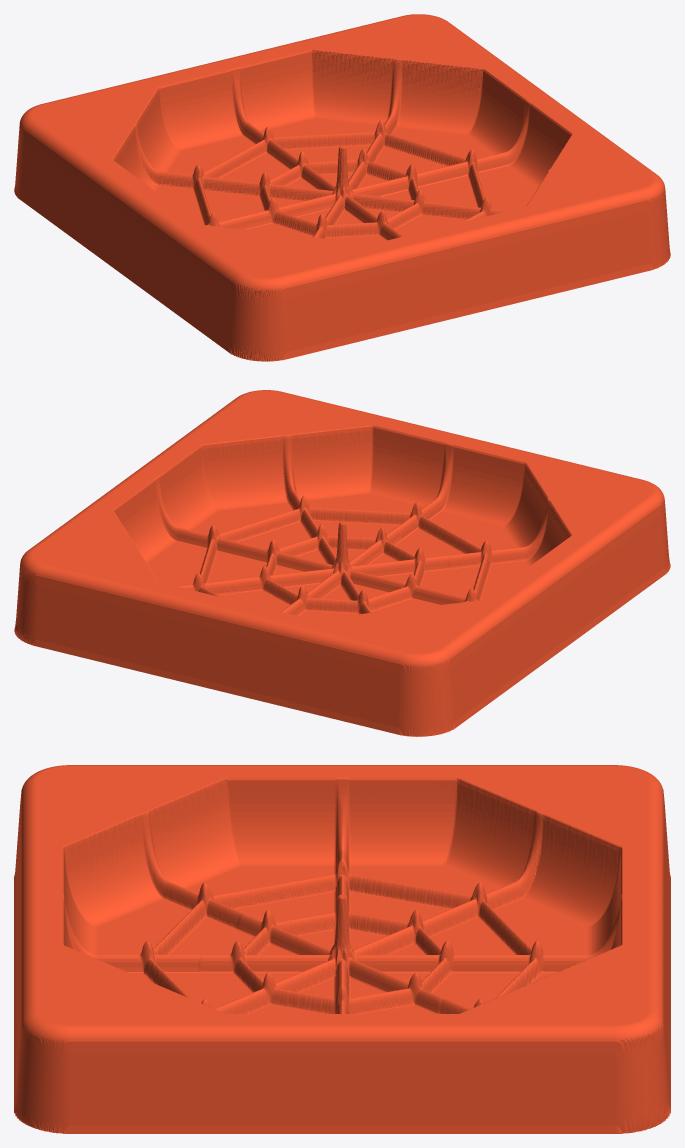
Rendered from mold.glb.
3 views of the same model, one above another, from view 1: azimuth 30°, elevation 25°; view 2: azimuth 150°, elevation 25°; view 3: azimuth 270°, elevation 25° (orthographic). The views are drawn at different scales.
Visible parts, largest first — view 1: geometry_0; view 2: geometry_0; view 3: geometry_0.
Boxes of the visible parts, x1=… form: geometry_0: x1=14, y1=14, x2=670, y2=361; geometry_0: x1=14, y1=390, x2=670, y2=736; geometry_0: x1=14, y1=765, x2=670, y2=1133.
Size of the model in its own units: 0.105 by 0.0175 by 0.105.
